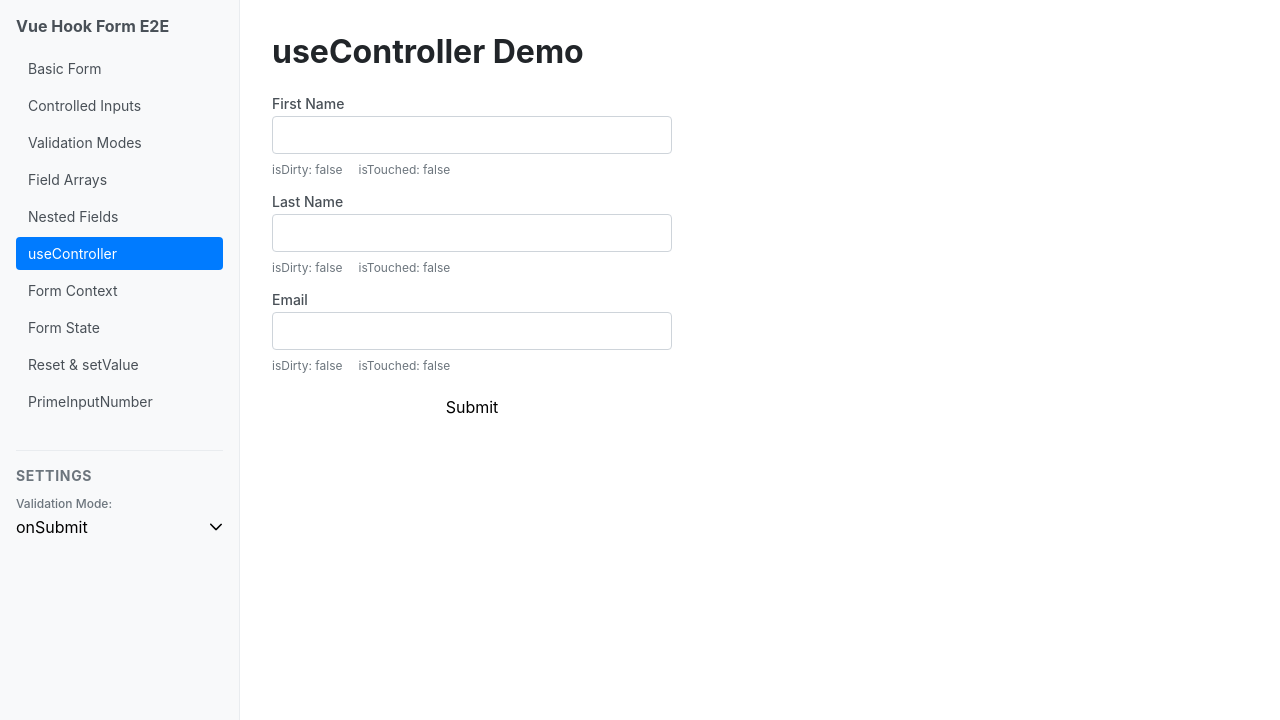
Scenario: useController › should show validation errors from controller fieldState
Click the button with test id "submit-button": (472, 407) [272,397,672,417]
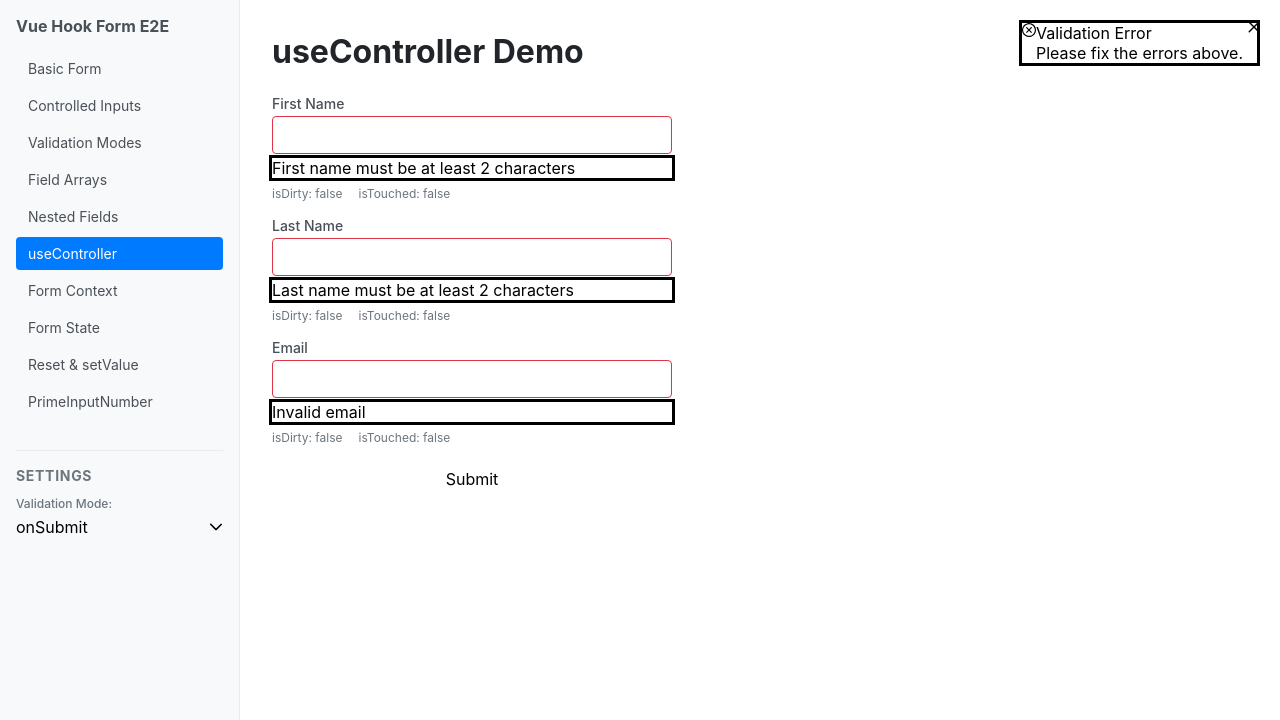
Now the text with test id "firstname-error" reads "First name must be at least 2 characters", box [272,158,575,178]
Now the text with test id "lastname-error" reads "Last name must be at least 2 characters", box [272,280,574,300]
Now the text with test id "email-error" reads "Invalid email", box [272,402,366,422]
